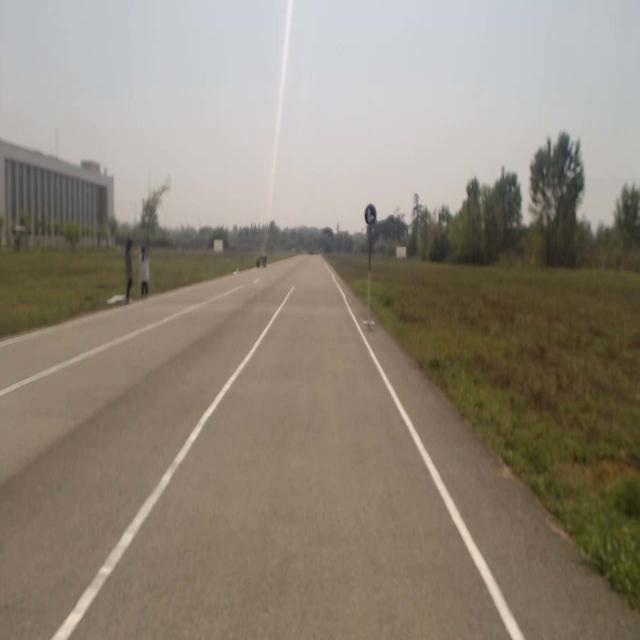ilerisag: (364, 202, 377, 228)
